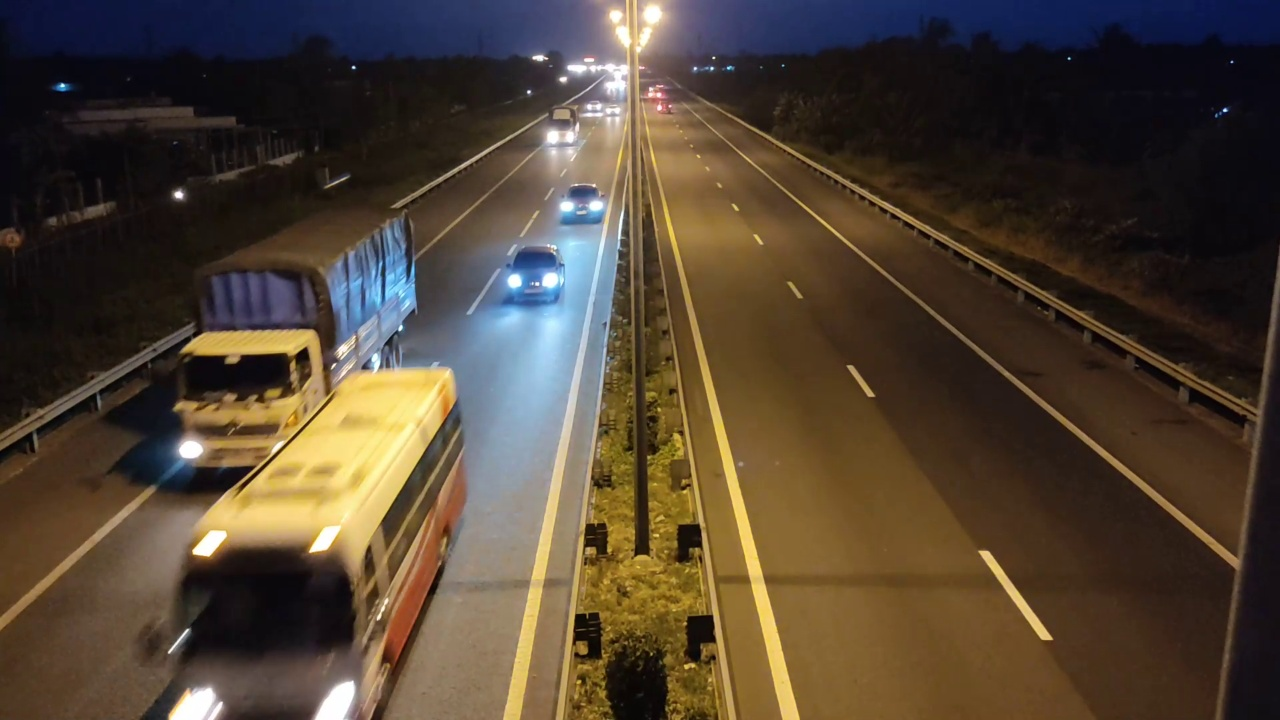bus: (172, 363, 471, 716)
car: (503, 243, 567, 305), (559, 183, 605, 225)
truck: (170, 202, 420, 483)
